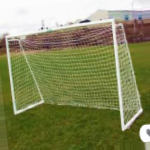goals: (5, 18, 144, 133)
